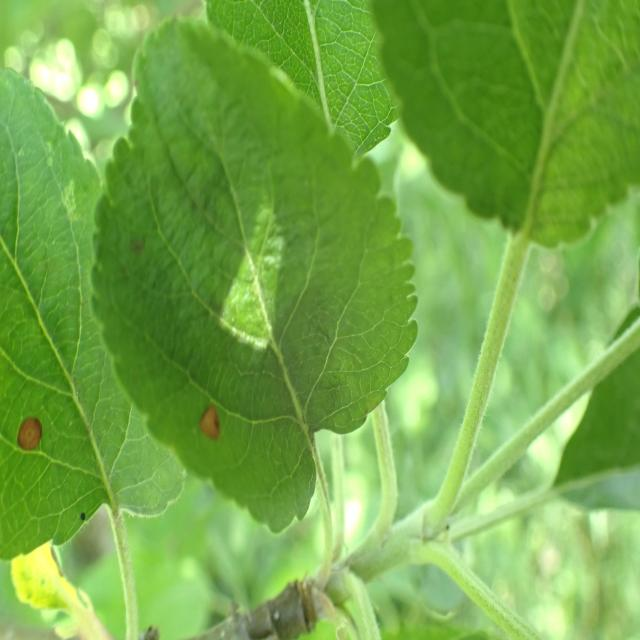Black Rot: (2, 401, 60, 491), (188, 380, 232, 471)
